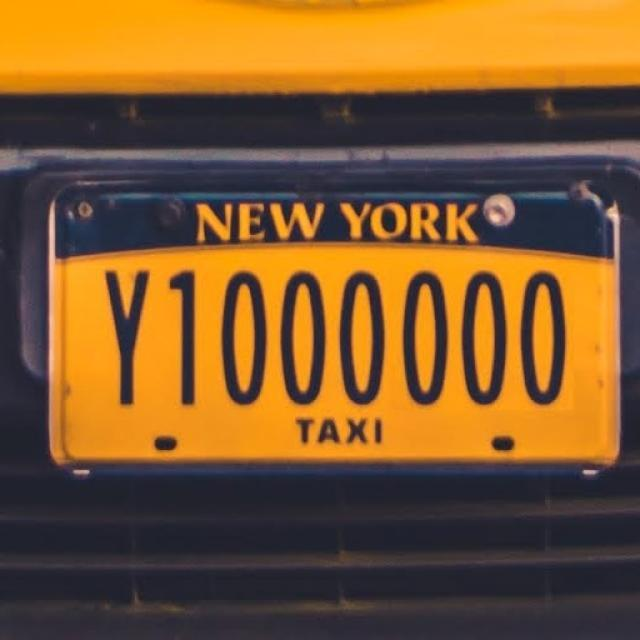licenseplate: (42, 168, 636, 500)
